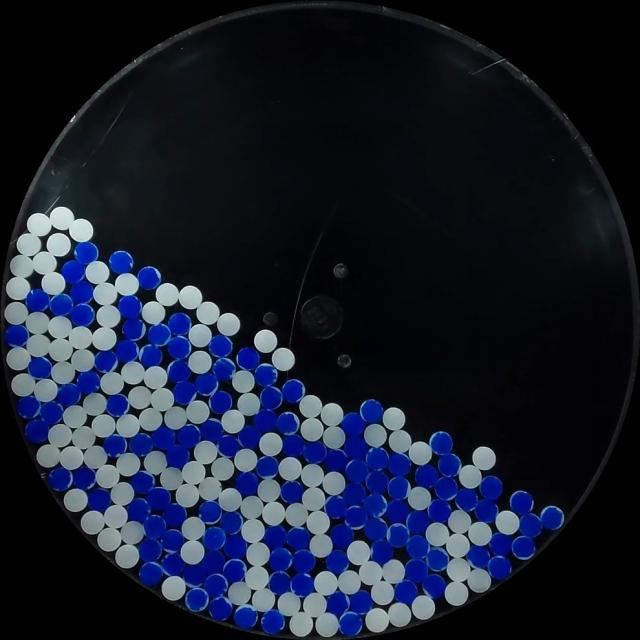pmmma-blanca: (160, 575, 186, 601), (9, 254, 35, 280), (161, 466, 187, 492), (47, 315, 73, 340), (10, 372, 36, 397), (467, 520, 492, 546), (358, 560, 383, 586), (285, 502, 310, 528), (47, 337, 74, 361), (379, 560, 406, 584), (91, 413, 116, 438), (115, 413, 140, 438), (305, 509, 330, 534), (116, 452, 141, 477), (443, 580, 468, 605), (244, 564, 269, 589), (230, 369, 255, 394), (466, 568, 491, 593), (25, 310, 50, 335), (322, 470, 347, 495), (114, 544, 140, 568), (289, 610, 313, 636), (494, 510, 520, 534), (82, 444, 108, 468), (96, 527, 122, 551), (91, 326, 117, 350), (25, 333, 51, 357), (68, 218, 94, 242), (411, 594, 435, 620), (93, 282, 119, 306), (114, 272, 140, 296), (49, 206, 75, 230), (26, 212, 52, 236), (6, 276, 32, 300), (228, 580, 252, 606), (142, 366, 167, 390), (150, 387, 174, 412), (446, 510, 471, 534), (187, 350, 212, 374), (175, 483, 200, 507), (80, 510, 105, 534), (314, 612, 338, 637), (387, 602, 411, 627), (314, 570, 338, 595), (181, 460, 206, 484), (48, 423, 73, 447), (181, 516, 205, 541), (445, 532, 469, 557), (6, 346, 30, 371), (63, 488, 88, 512), (110, 481, 135, 505), (364, 608, 389, 632), (471, 446, 496, 470), (196, 477, 221, 501), (96, 463, 120, 488), (302, 593, 326, 618), (32, 251, 57, 275), (163, 406, 188, 430), (96, 304, 121, 328), (370, 579, 394, 604), (119, 521, 144, 545), (16, 233, 41, 257), (216, 312, 241, 336), (4, 301, 29, 325), (322, 424, 347, 448), (120, 361, 146, 384), (104, 505, 130, 528), (408, 486, 431, 512), (180, 540, 204, 564), (240, 518, 264, 542), (128, 385, 152, 409), (233, 448, 257, 472), (278, 456, 302, 480), (300, 463, 324, 487), (262, 501, 286, 525), (458, 464, 482, 488), (254, 329, 278, 353), (272, 347, 296, 371), (299, 394, 323, 418), (408, 440, 432, 464), (178, 285, 202, 309), (155, 282, 179, 306), (196, 301, 220, 325), (69, 326, 93, 350), (236, 392, 261, 415), (59, 446, 84, 469), (36, 444, 61, 467), (46, 233, 71, 256), (382, 406, 405, 431), (85, 261, 110, 284), (302, 487, 327, 510), (388, 429, 412, 452), (251, 588, 275, 611), (188, 324, 212, 347), (42, 272, 66, 295), (141, 301, 165, 324), (71, 349, 95, 372), (71, 427, 95, 450), (426, 524, 450, 547), (246, 543, 271, 565), (336, 572, 361, 594), (337, 540, 365, 559), (34, 379, 57, 402), (300, 418, 323, 441), (310, 533, 333, 556), (320, 402, 342, 426), (52, 361, 76, 383), (144, 451, 168, 473), (100, 372, 124, 394), (281, 591, 303, 615), (447, 558, 471, 580), (188, 399, 209, 424), (82, 392, 105, 414), (192, 441, 215, 463), (260, 432, 282, 455), (348, 540, 370, 563), (138, 407, 162, 428), (222, 409, 244, 431), (258, 480, 280, 502), (364, 424, 386, 446), (219, 488, 240, 510), (63, 406, 86, 426), (242, 496, 262, 518), (210, 458, 233, 477)
